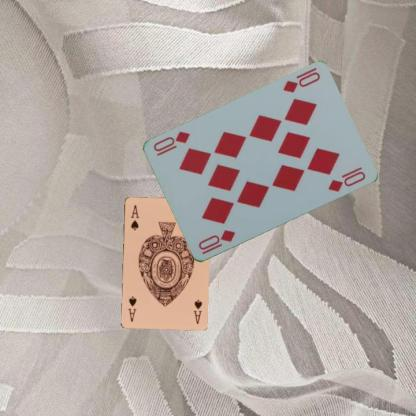10d: (280, 65, 321, 95), (195, 227, 237, 256)
As: (128, 202, 140, 231), (190, 297, 202, 325)
